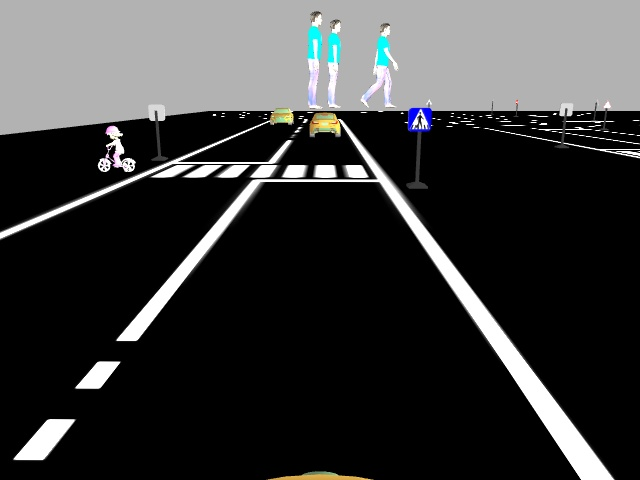Crosswalk: (95, 124, 138, 174), (406, 107, 431, 132)
